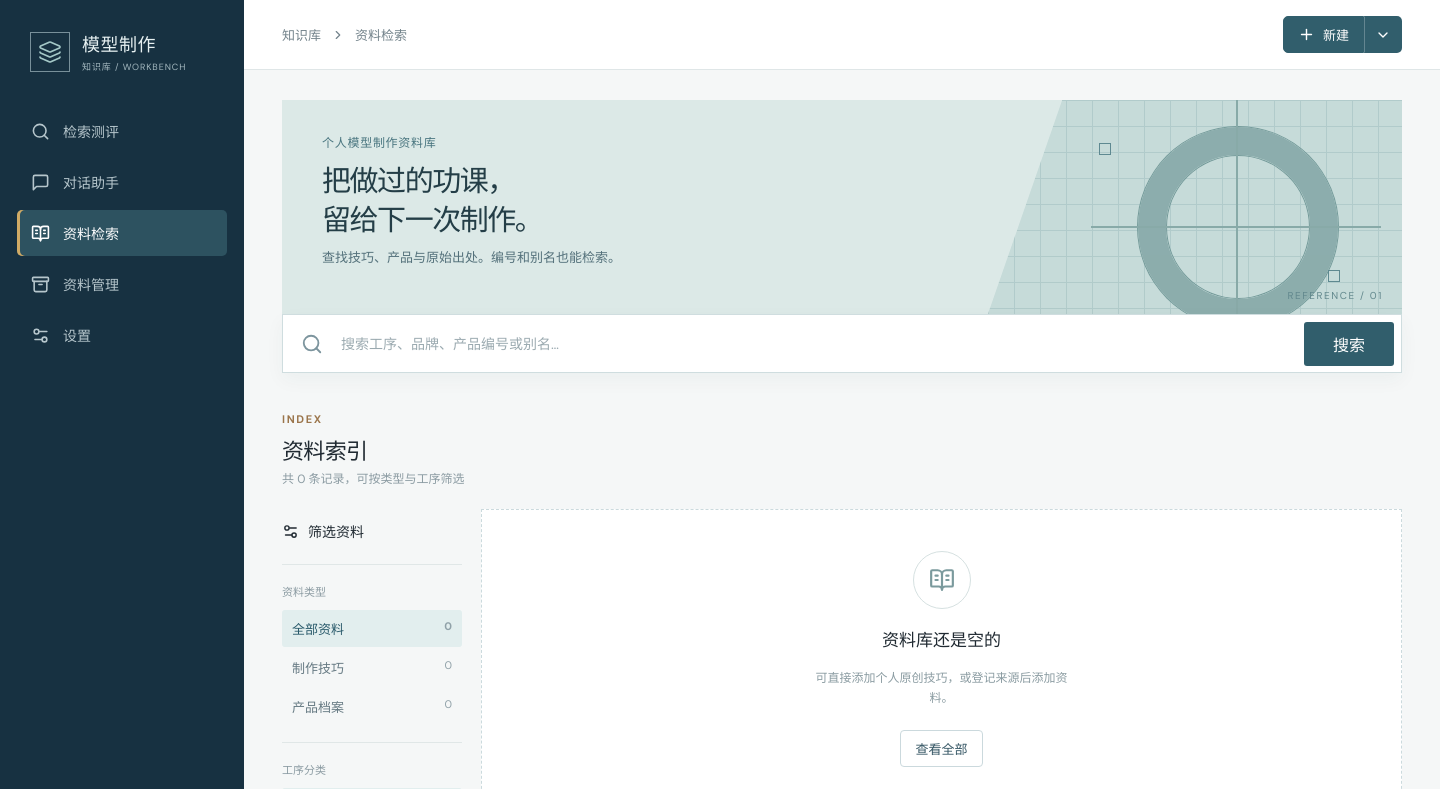
Test case: publishes personal original techniques without a pre-existing source or withdrawn option
Click the button "新建".
click(1324, 34)  # box [1283, 16, 1364, 53]
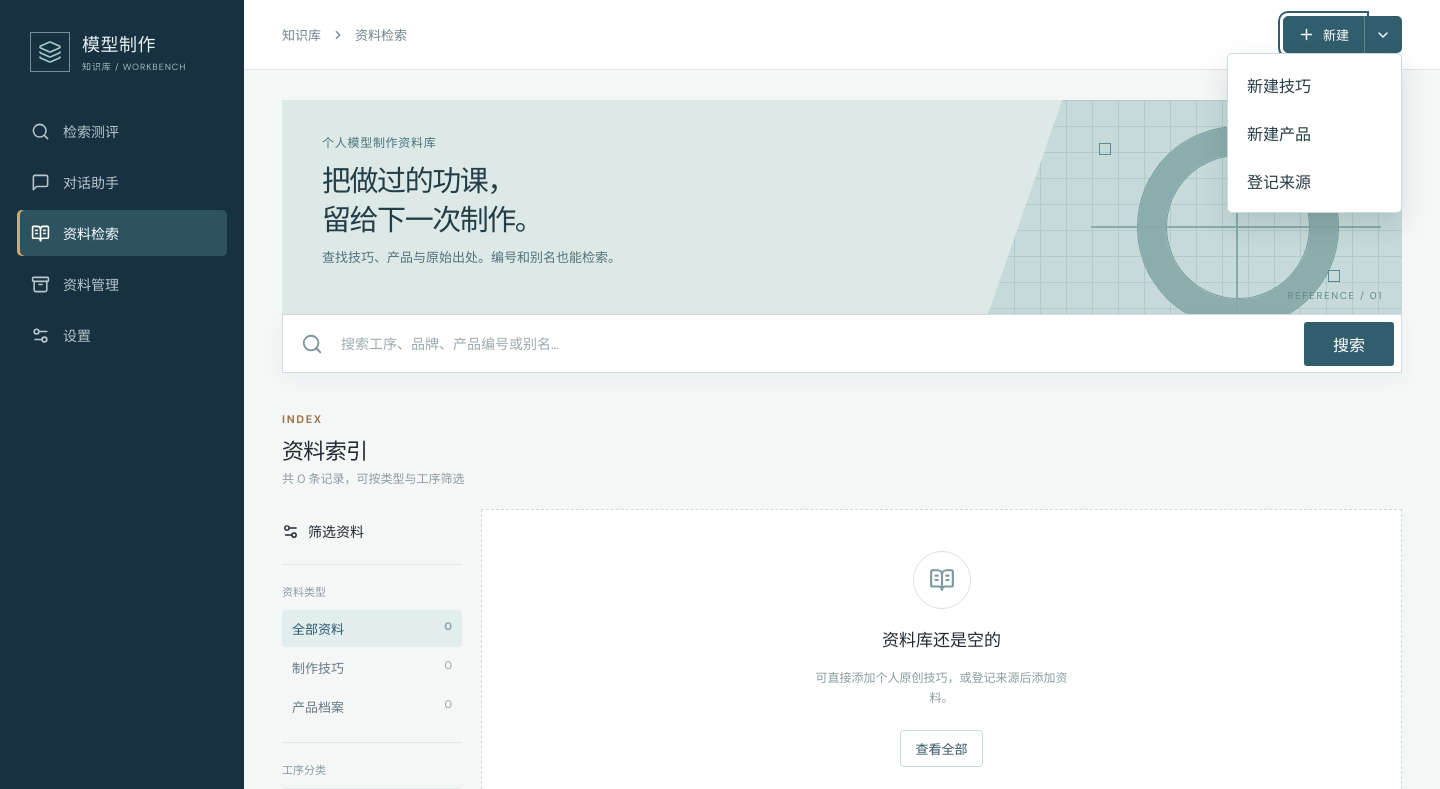
Click the menu item "新建技巧".
click(1314, 85)  # box [1235, 61, 1394, 109]
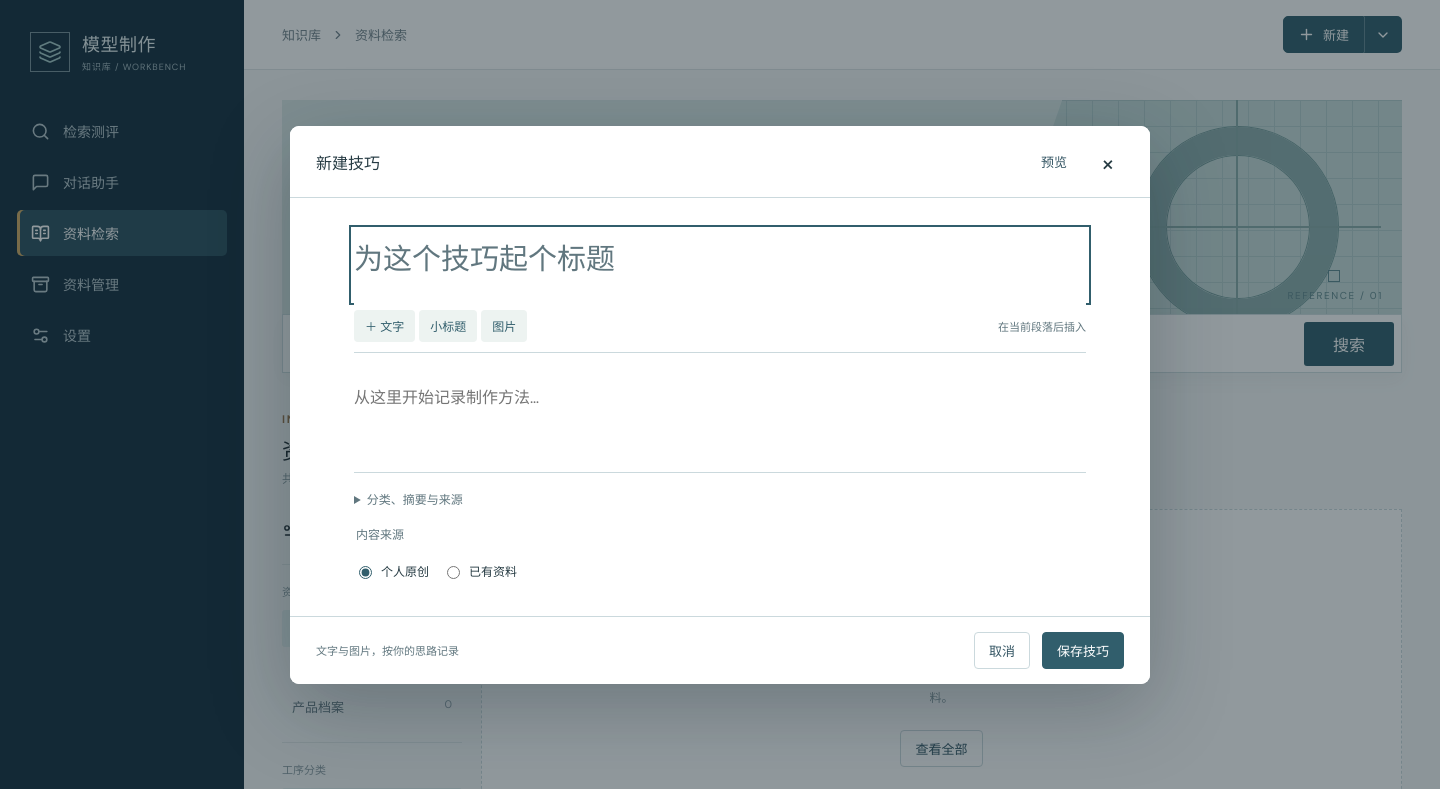
Click the radio button labelled "个人原创".
click(366, 572)  # box [359, 566, 372, 579]
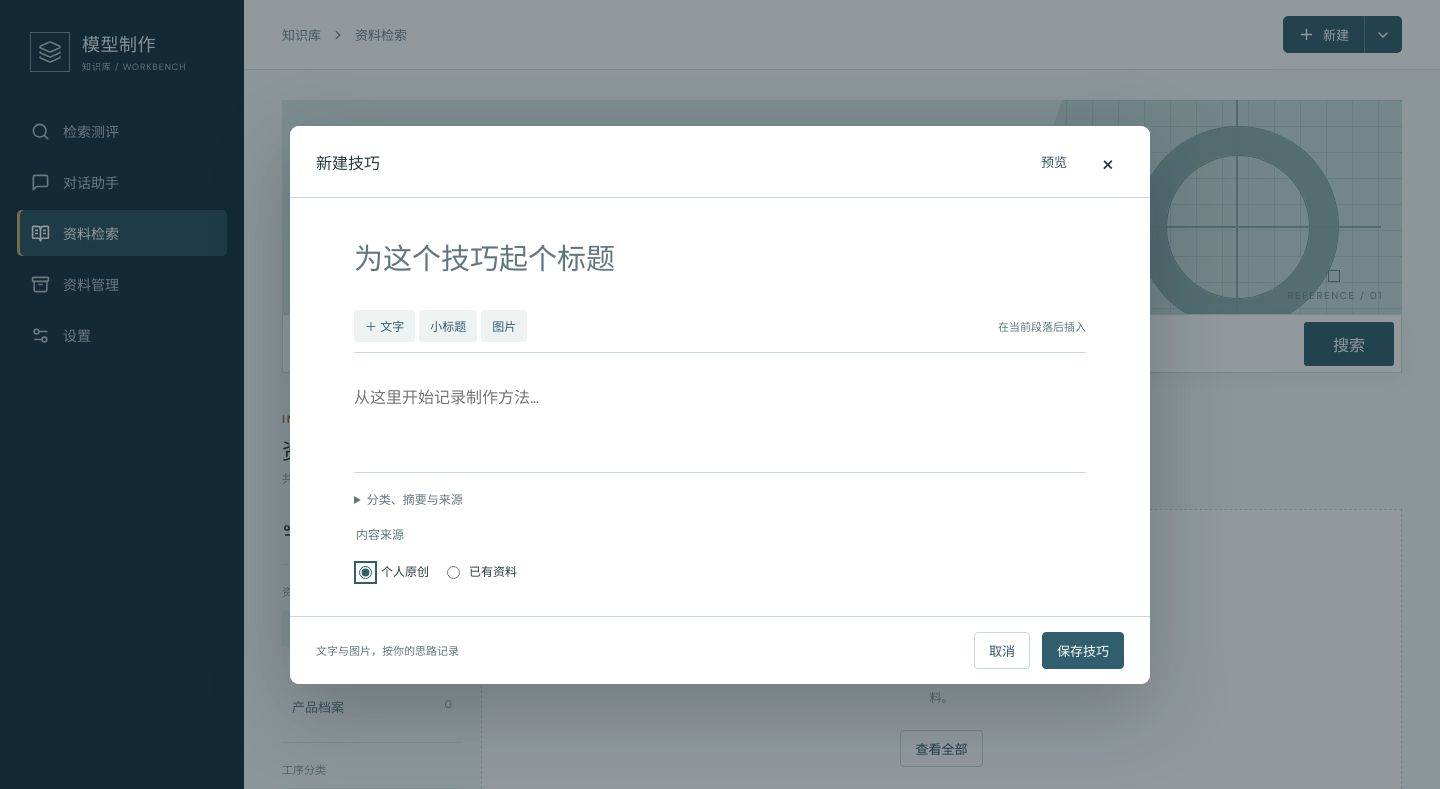
Expected: the element "资料来源" is not shown
Type "原创方法" into the field labelled "标题".
click(720, 265); type("原创方法")  # box [354, 230, 1086, 300]
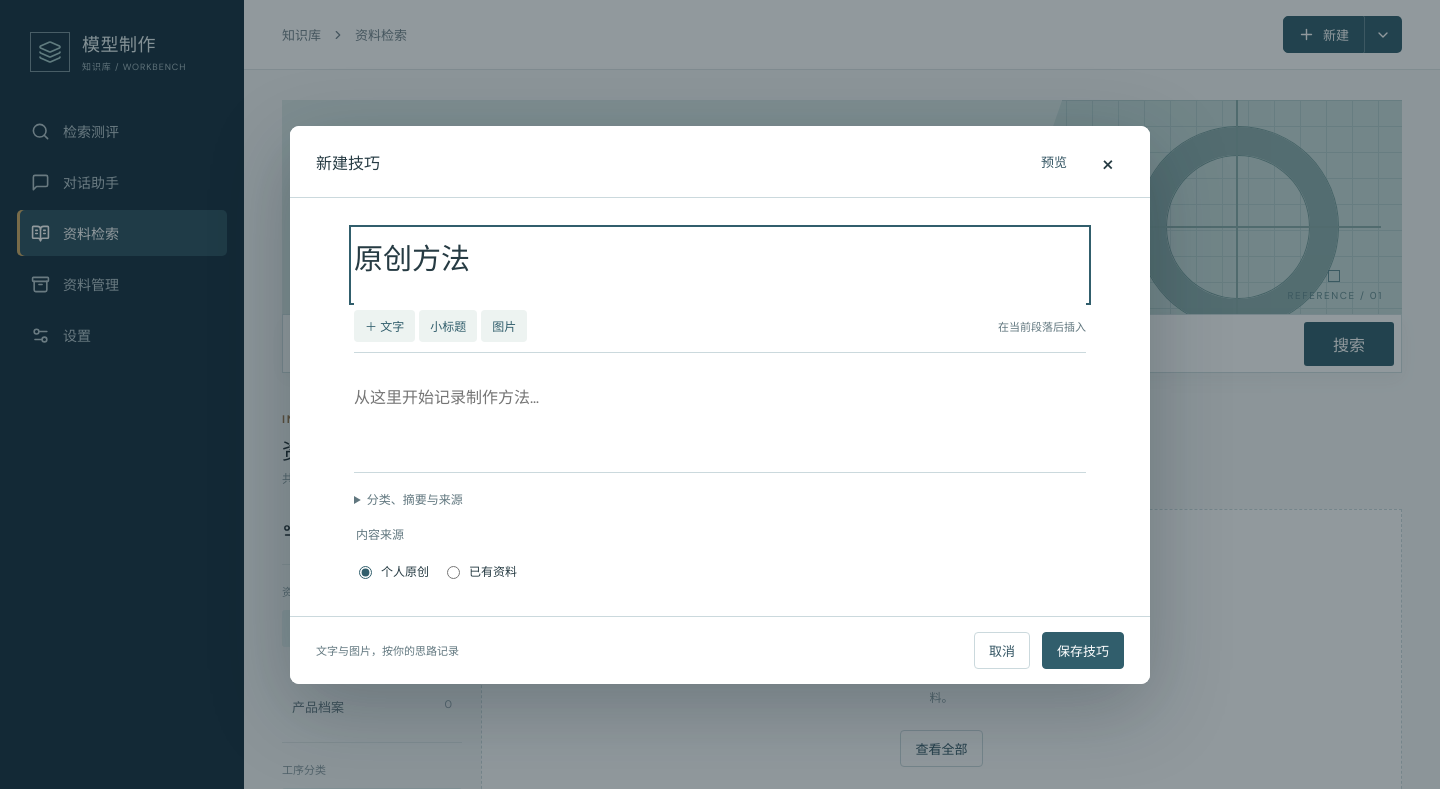
Click the button "保存技巧".
click(1083, 650)  # box [1042, 632, 1124, 669]
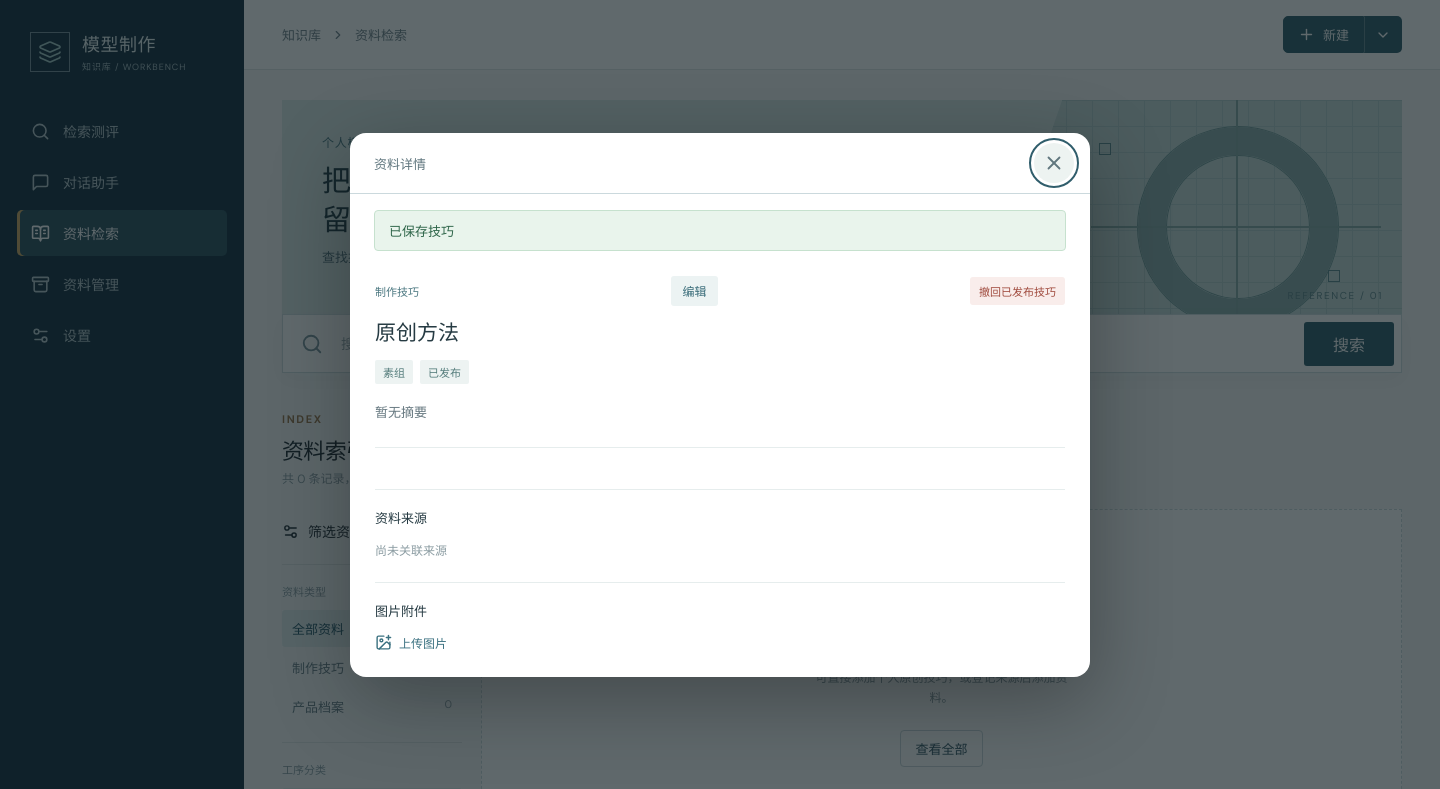
Result: the text "已保存技巧" is shown at [374, 210, 1066, 251]
